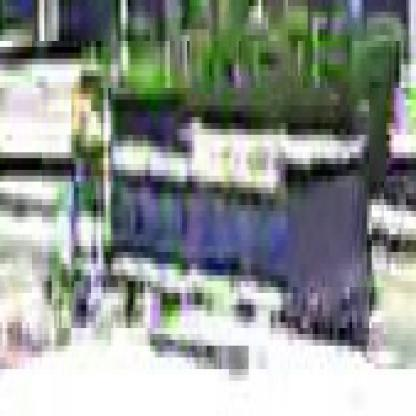container: (43, 77, 375, 353)
